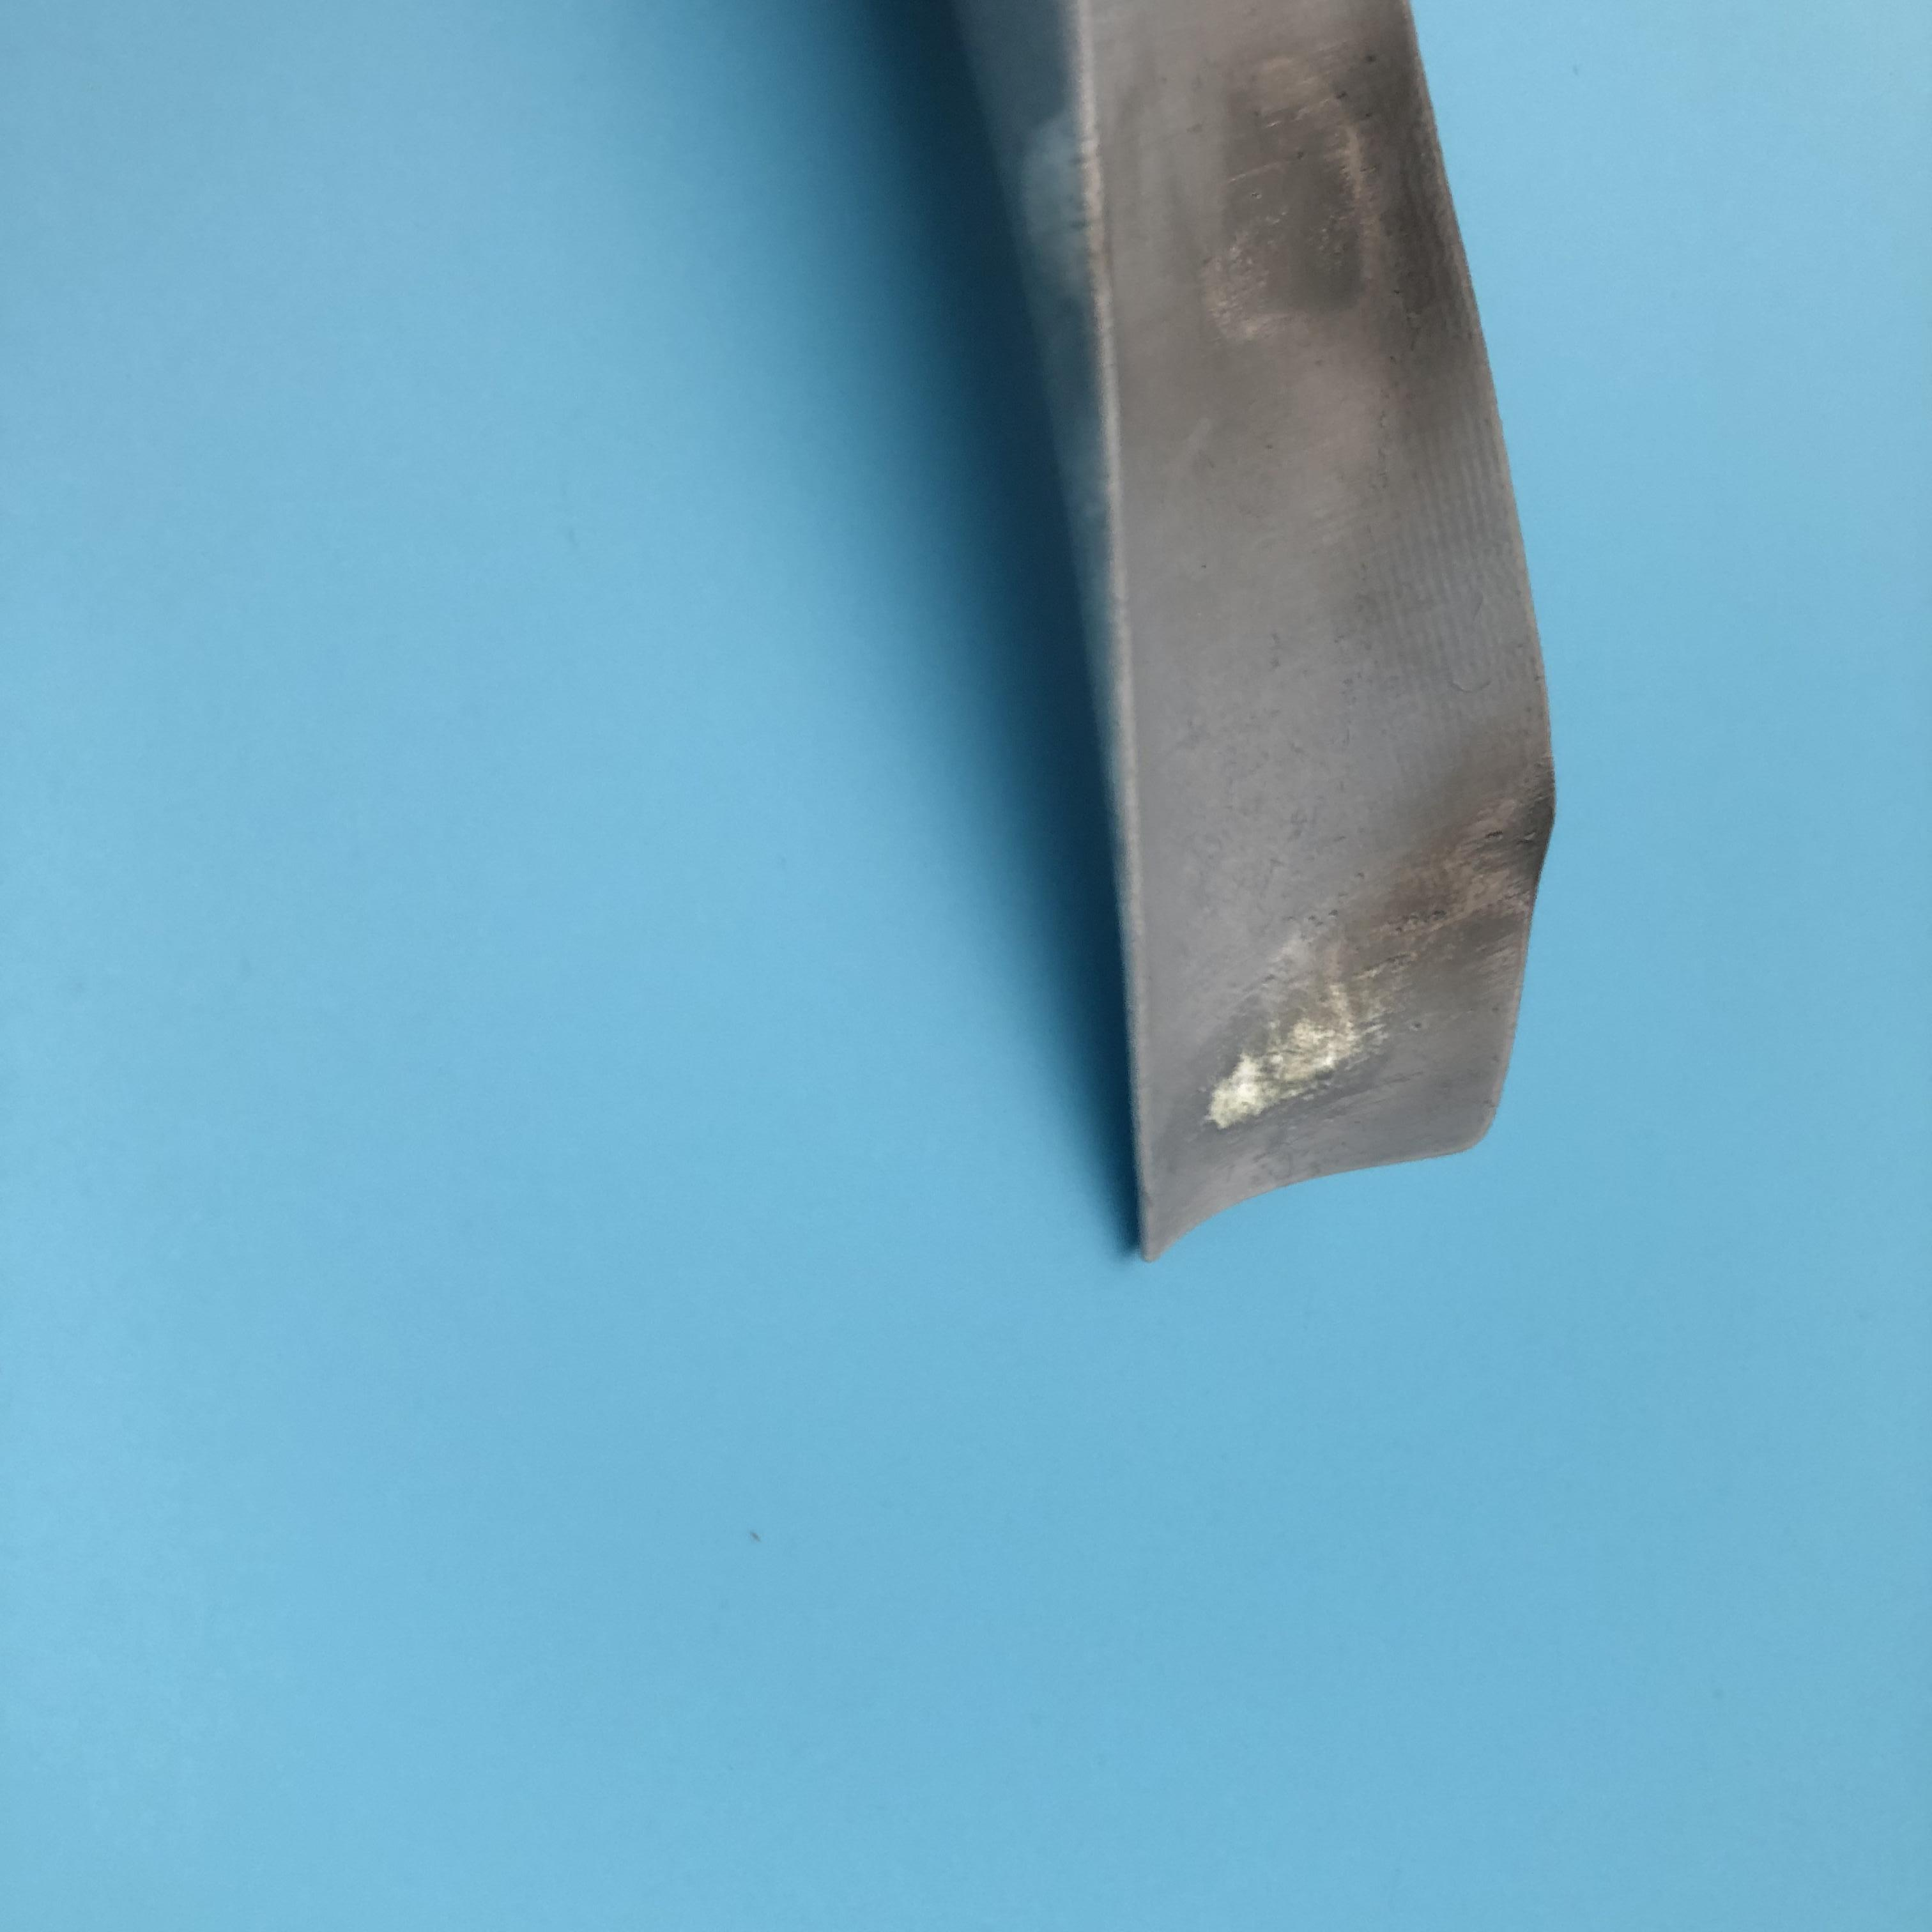ablation: (1240, 103, 1474, 373), (1389, 761, 1548, 957)
